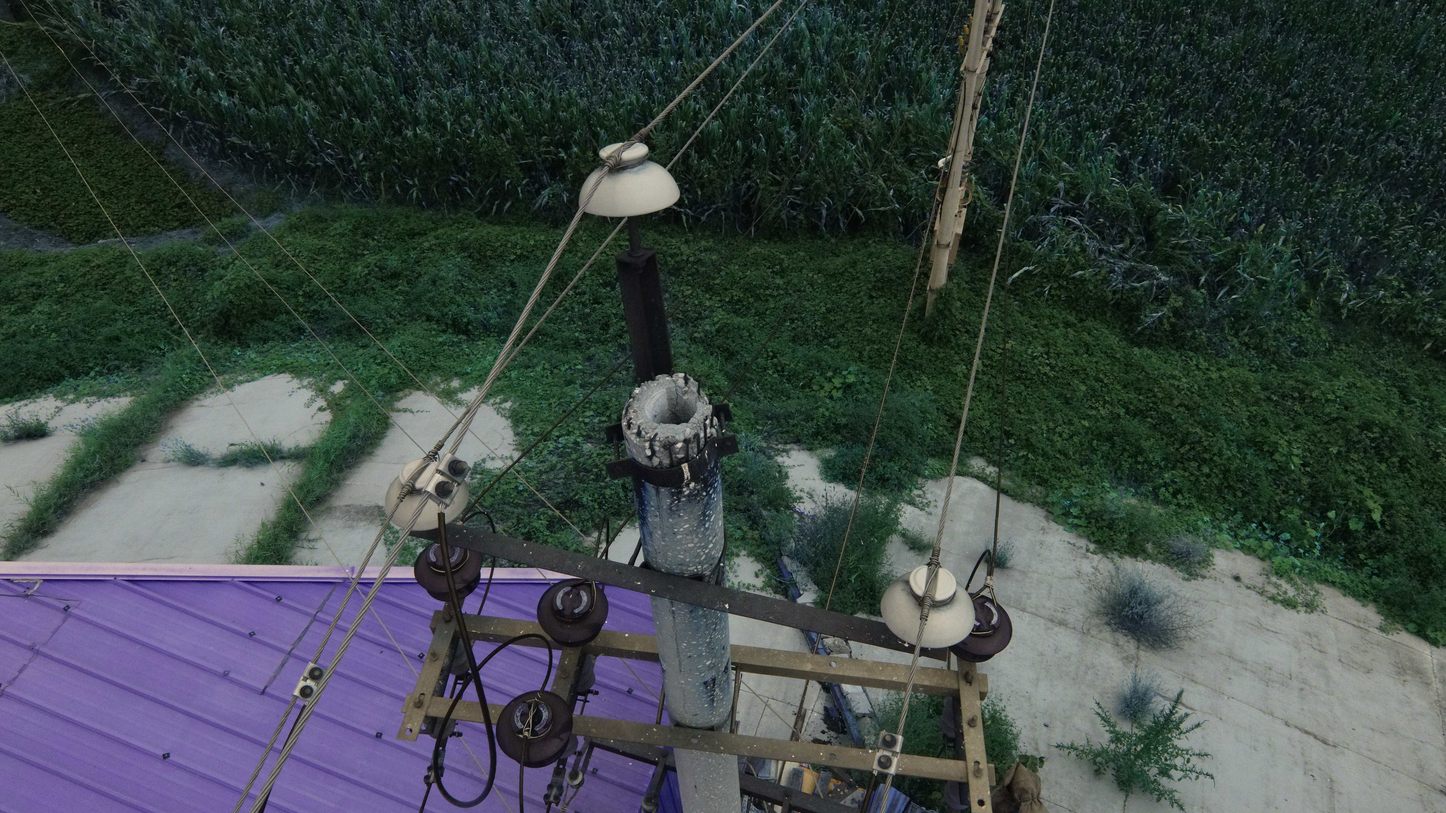severe_soiling_no_discharge_whole: (875, 566, 983, 654)
